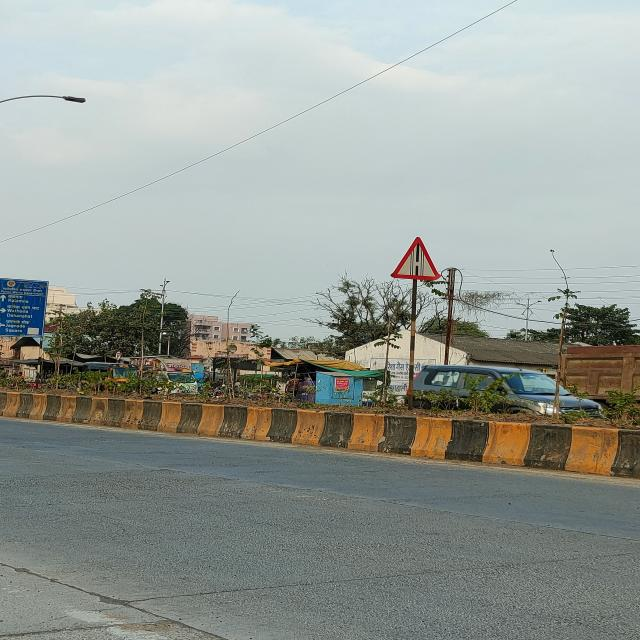GAP_IN_MEDIAN: (392, 238, 438, 281)
